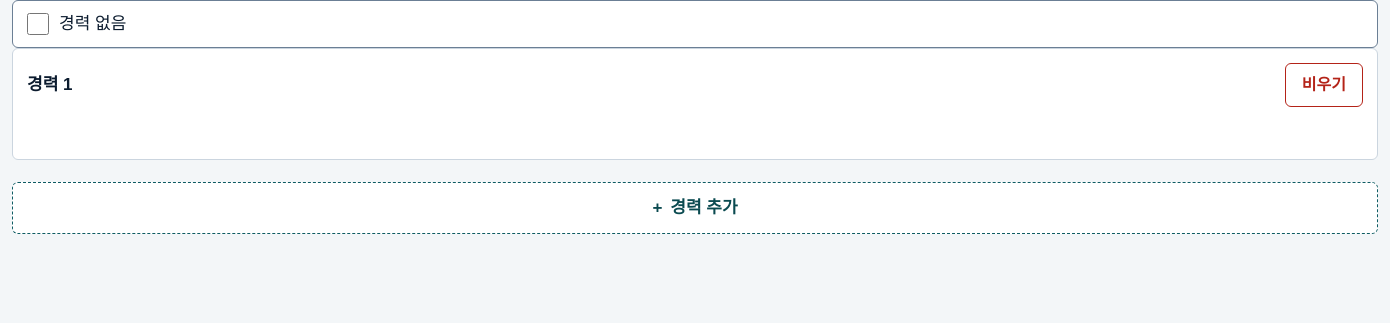
it: NoneChoice (T030) › 선택하면 연결 입력이 비활성이 되고 이유가 글자로 보인다
Click the checkbox labelled "경력 없음" at (38, 24), box 27,13 -> 49,35
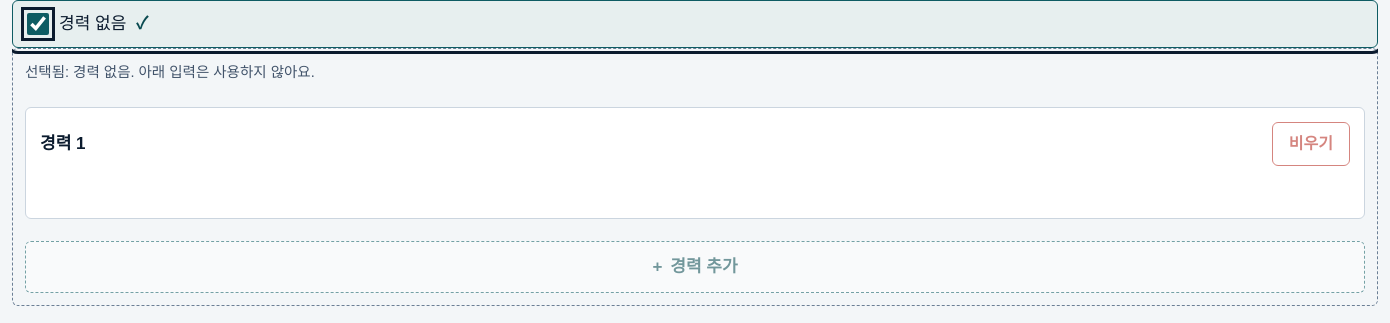
Result: the text "선택됨: 경력 없음. 아래 입력은 사용하지 않아요." is shown at 25,64 -> 315,80
